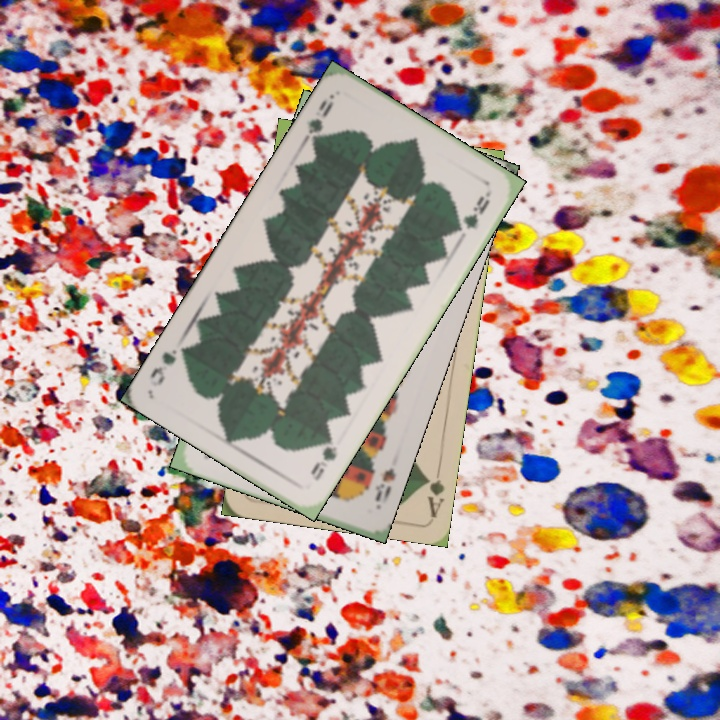G9: (299, 89, 337, 149), (306, 431, 340, 484)
GA: (420, 460, 447, 519)
S8: (370, 464, 399, 504)
